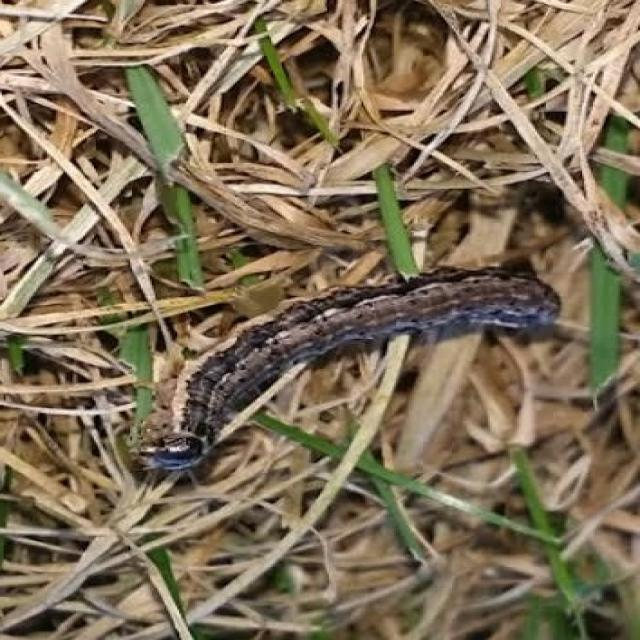army worm: (132, 272, 564, 474)
